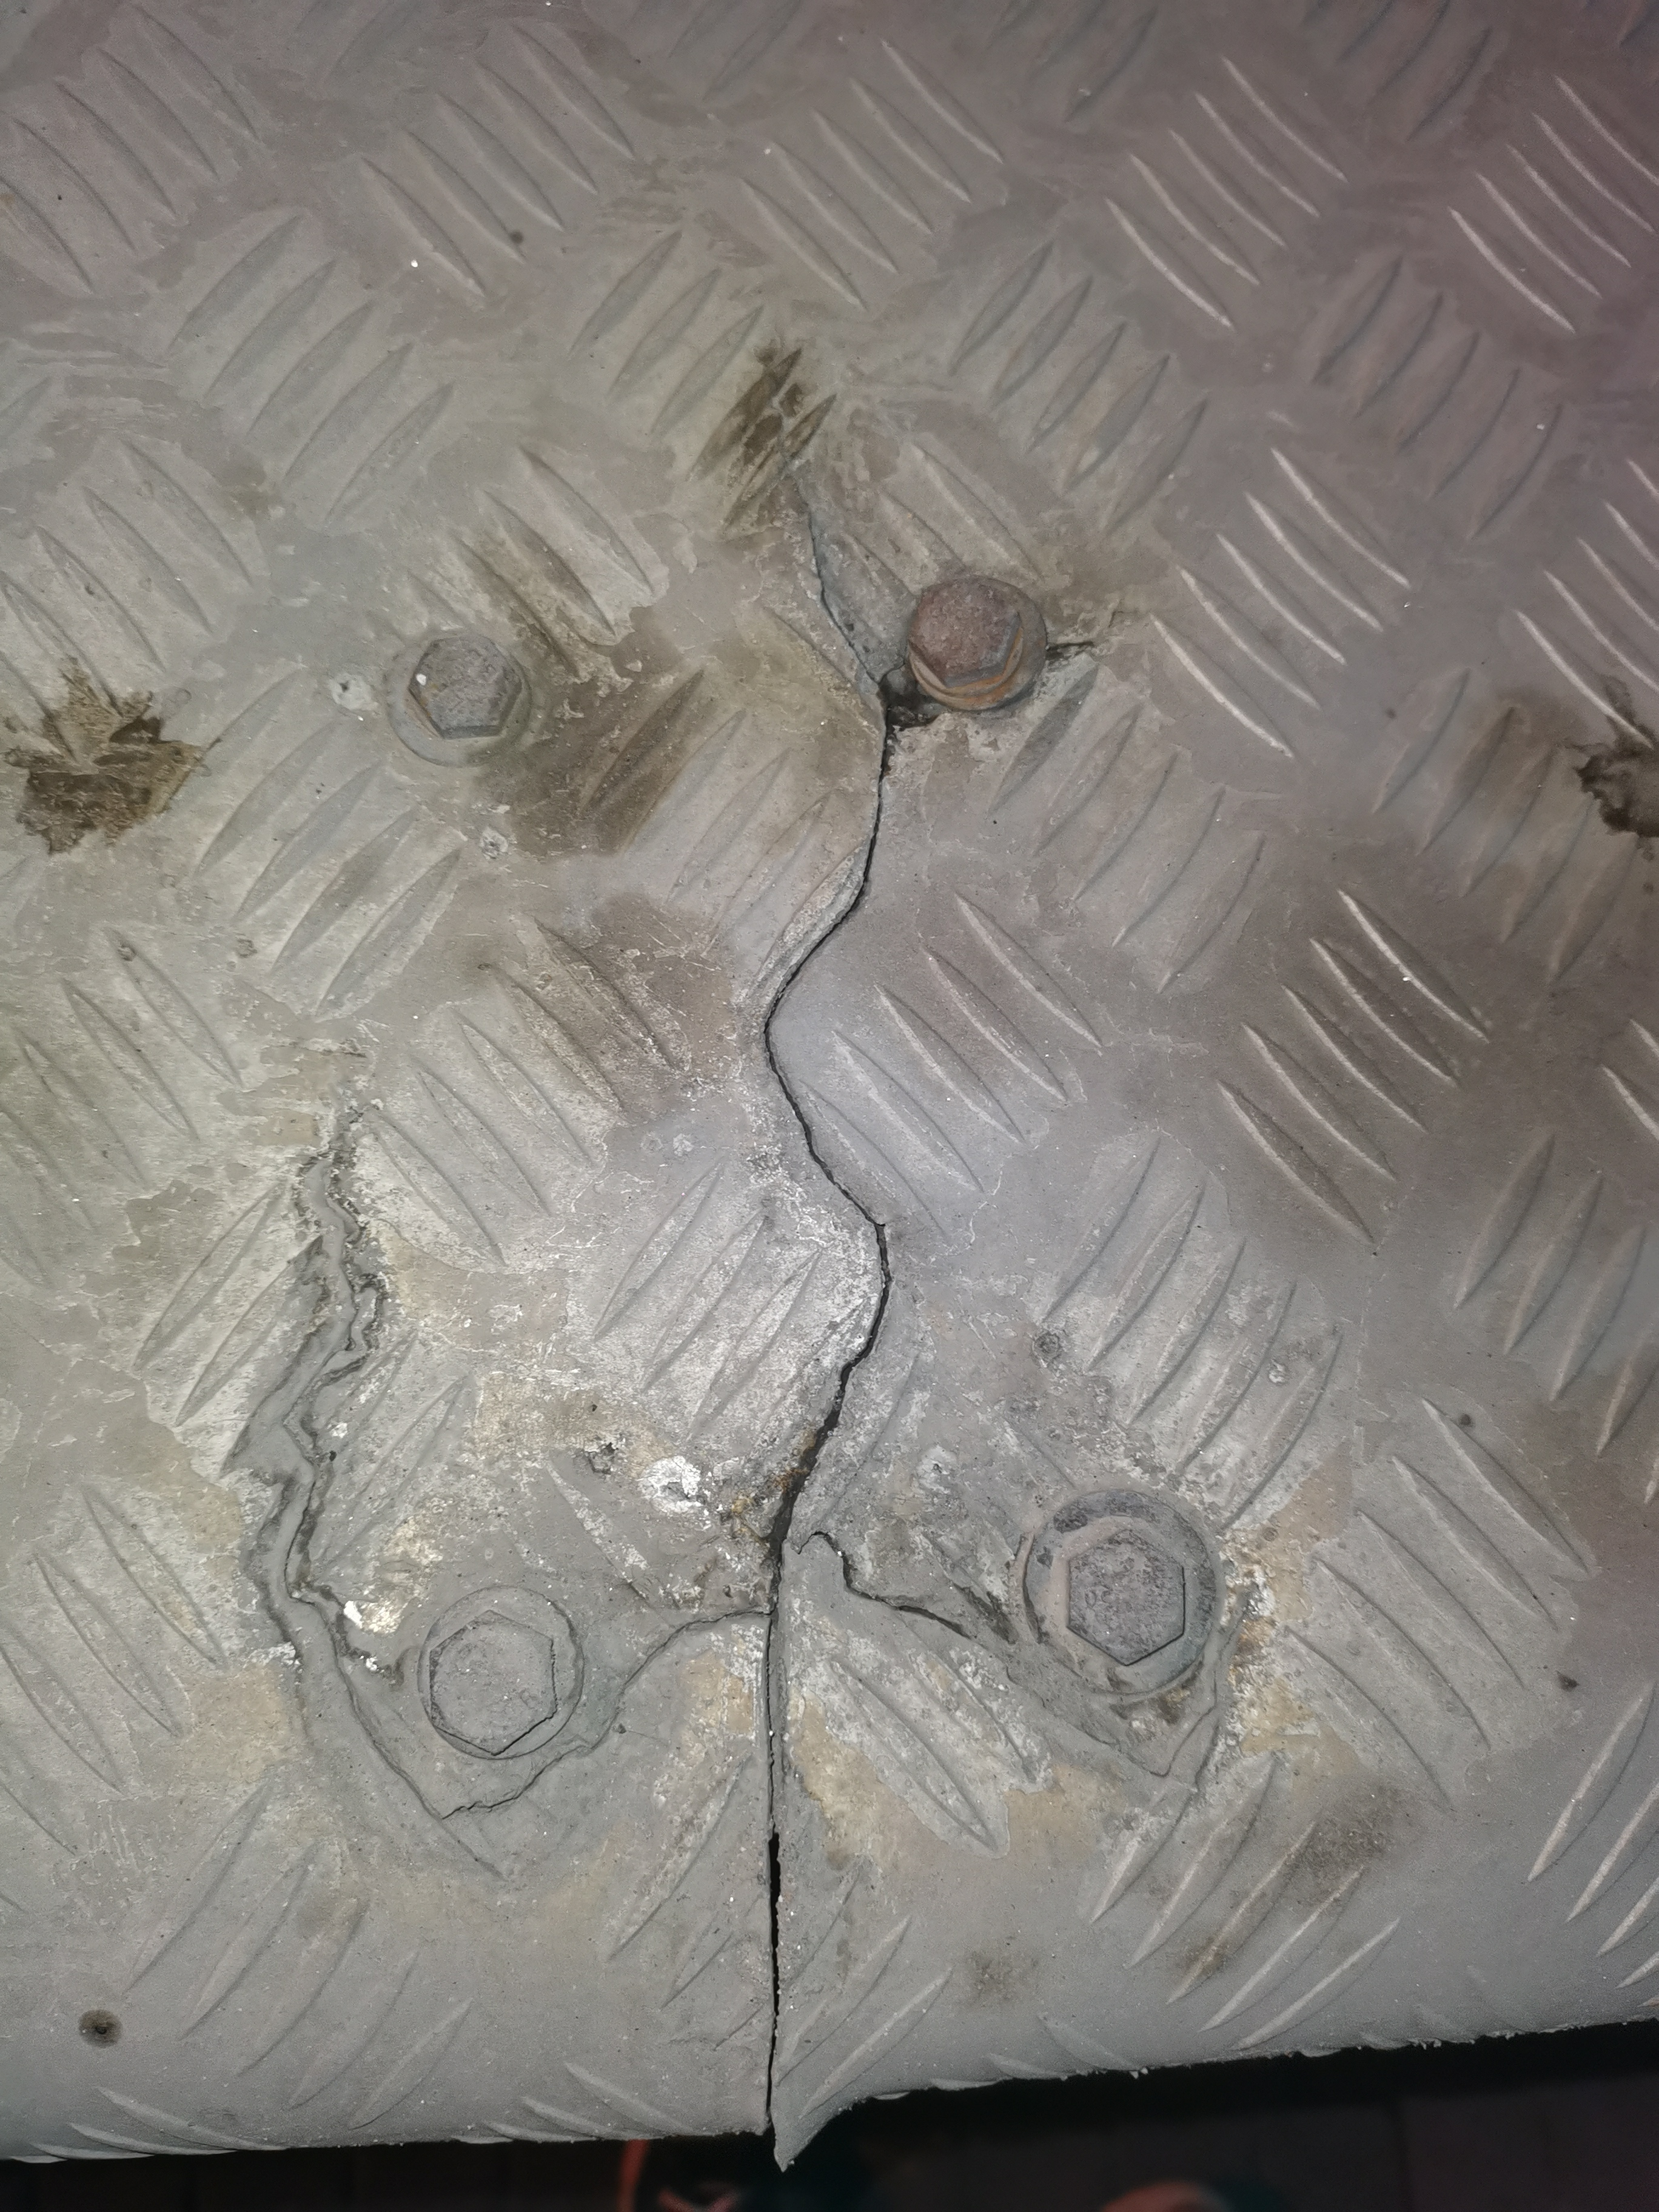bolt_a: (418, 1599, 566, 1763), (1056, 1522, 1192, 1670), (901, 571, 1033, 693), (401, 632, 526, 740)
